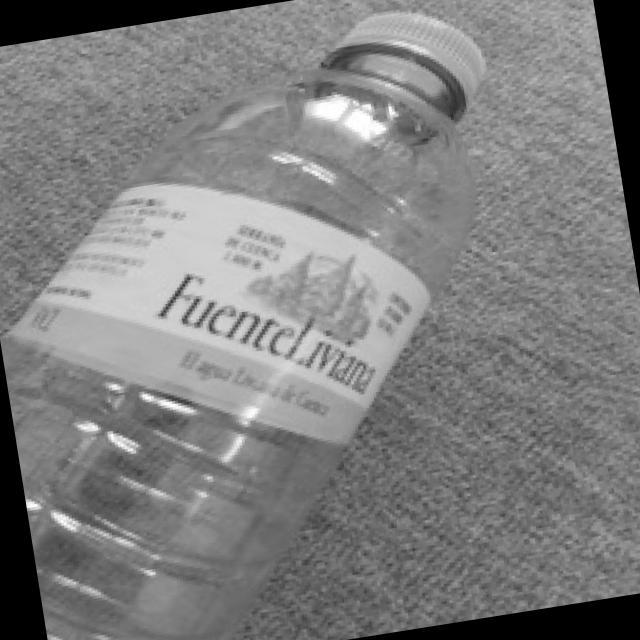good: (0, 0, 570, 640)
